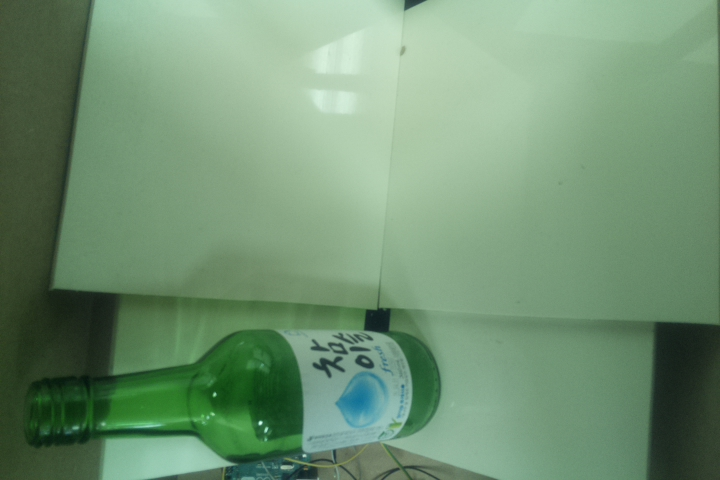soju: (22, 329, 439, 463)
